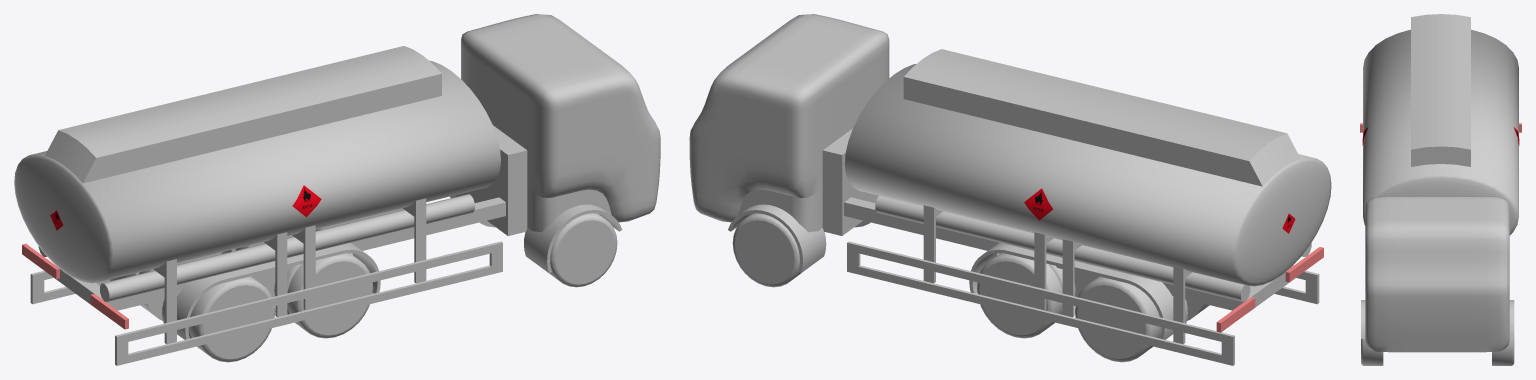
The model's file is WATERCAR.glb.
3 views of the same model, side by side, from view 1: azimuth 30°, elevation 25°; view 2: azimuth 150°, elevation 25°; view 3: azimuth 270°, elevation 25° (orthographic). The views are drawn at different scales.
Visible parts, largest first — view 1: body, light; view 2: body, light; view 3: body.
Part boxes in pixels (<box>): body: <box>14,14,660,365</box>; light: <box>22,243,128,329</box>; body: <box>689,14,1331,365</box>; light: <box>1216,247,1323,332</box>; body: <box>1361,14,1519,365</box>.
Bounding box in the file's own units: 9.03 × 3.41 × 2.87.
Materials: 3 (1 with a texture image).
